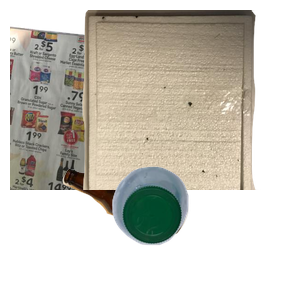glass: (60, 166, 241, 300)
paper: (10, 21, 222, 201)
plastic: (110, 164, 300, 300)
trash: (80, 10, 300, 190)
